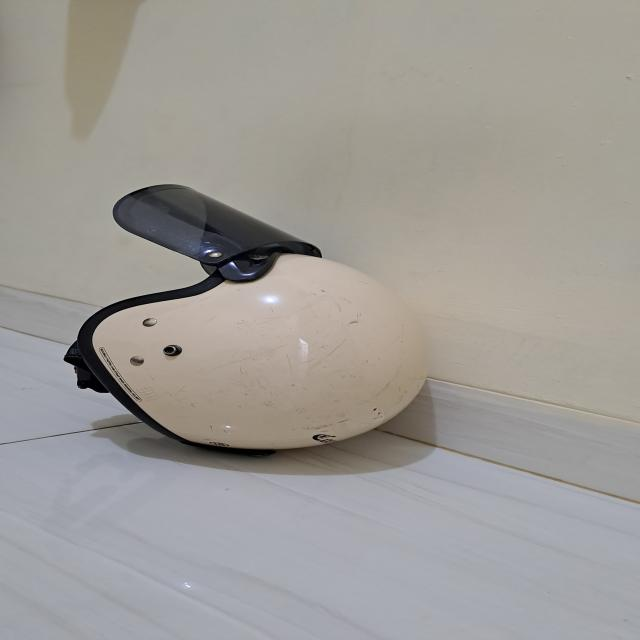Helm: (67, 176, 446, 464)
